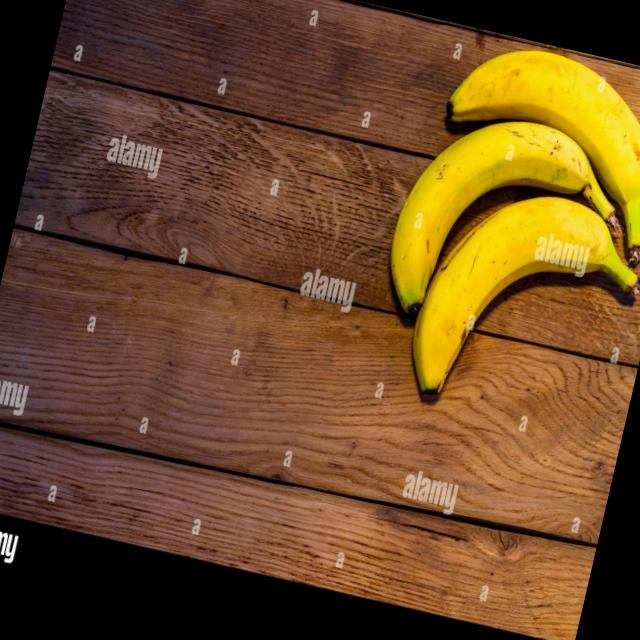Platano: (372, 91, 640, 366), (389, 164, 640, 450), (414, 24, 640, 277)
